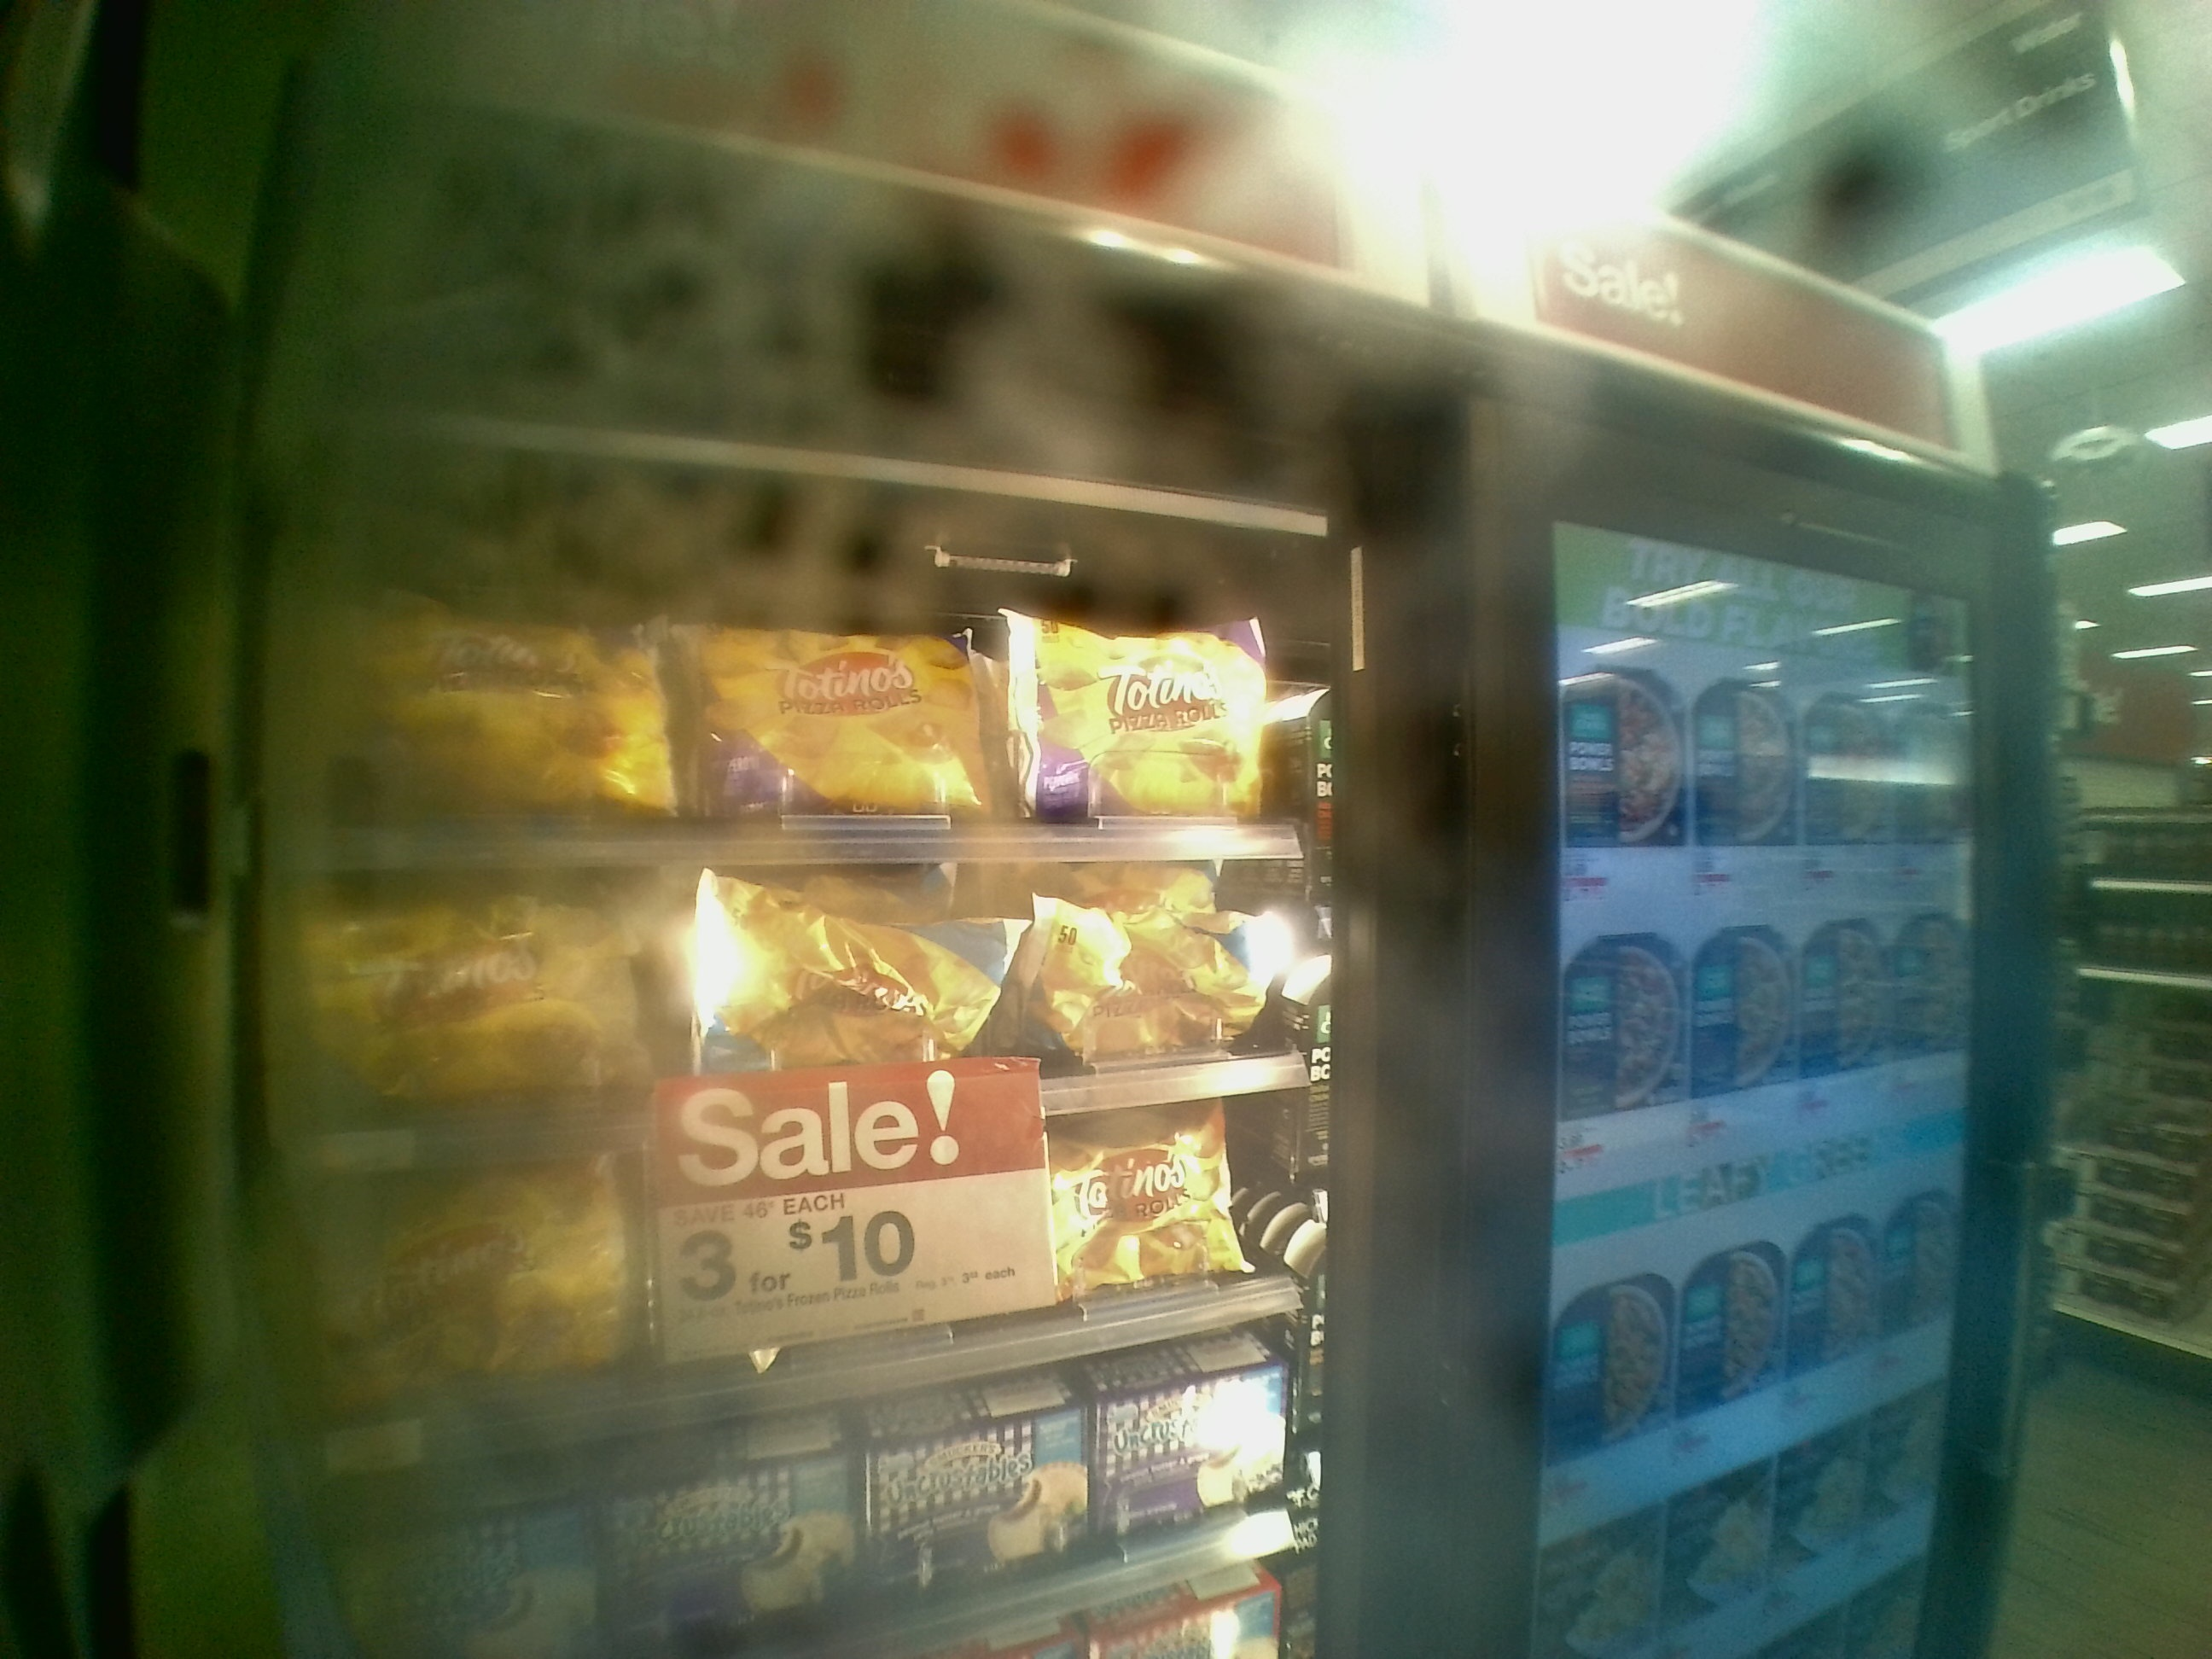shelf: (296, 476, 1331, 873), (280, 871, 1331, 1154), (298, 1176, 1305, 1410)
